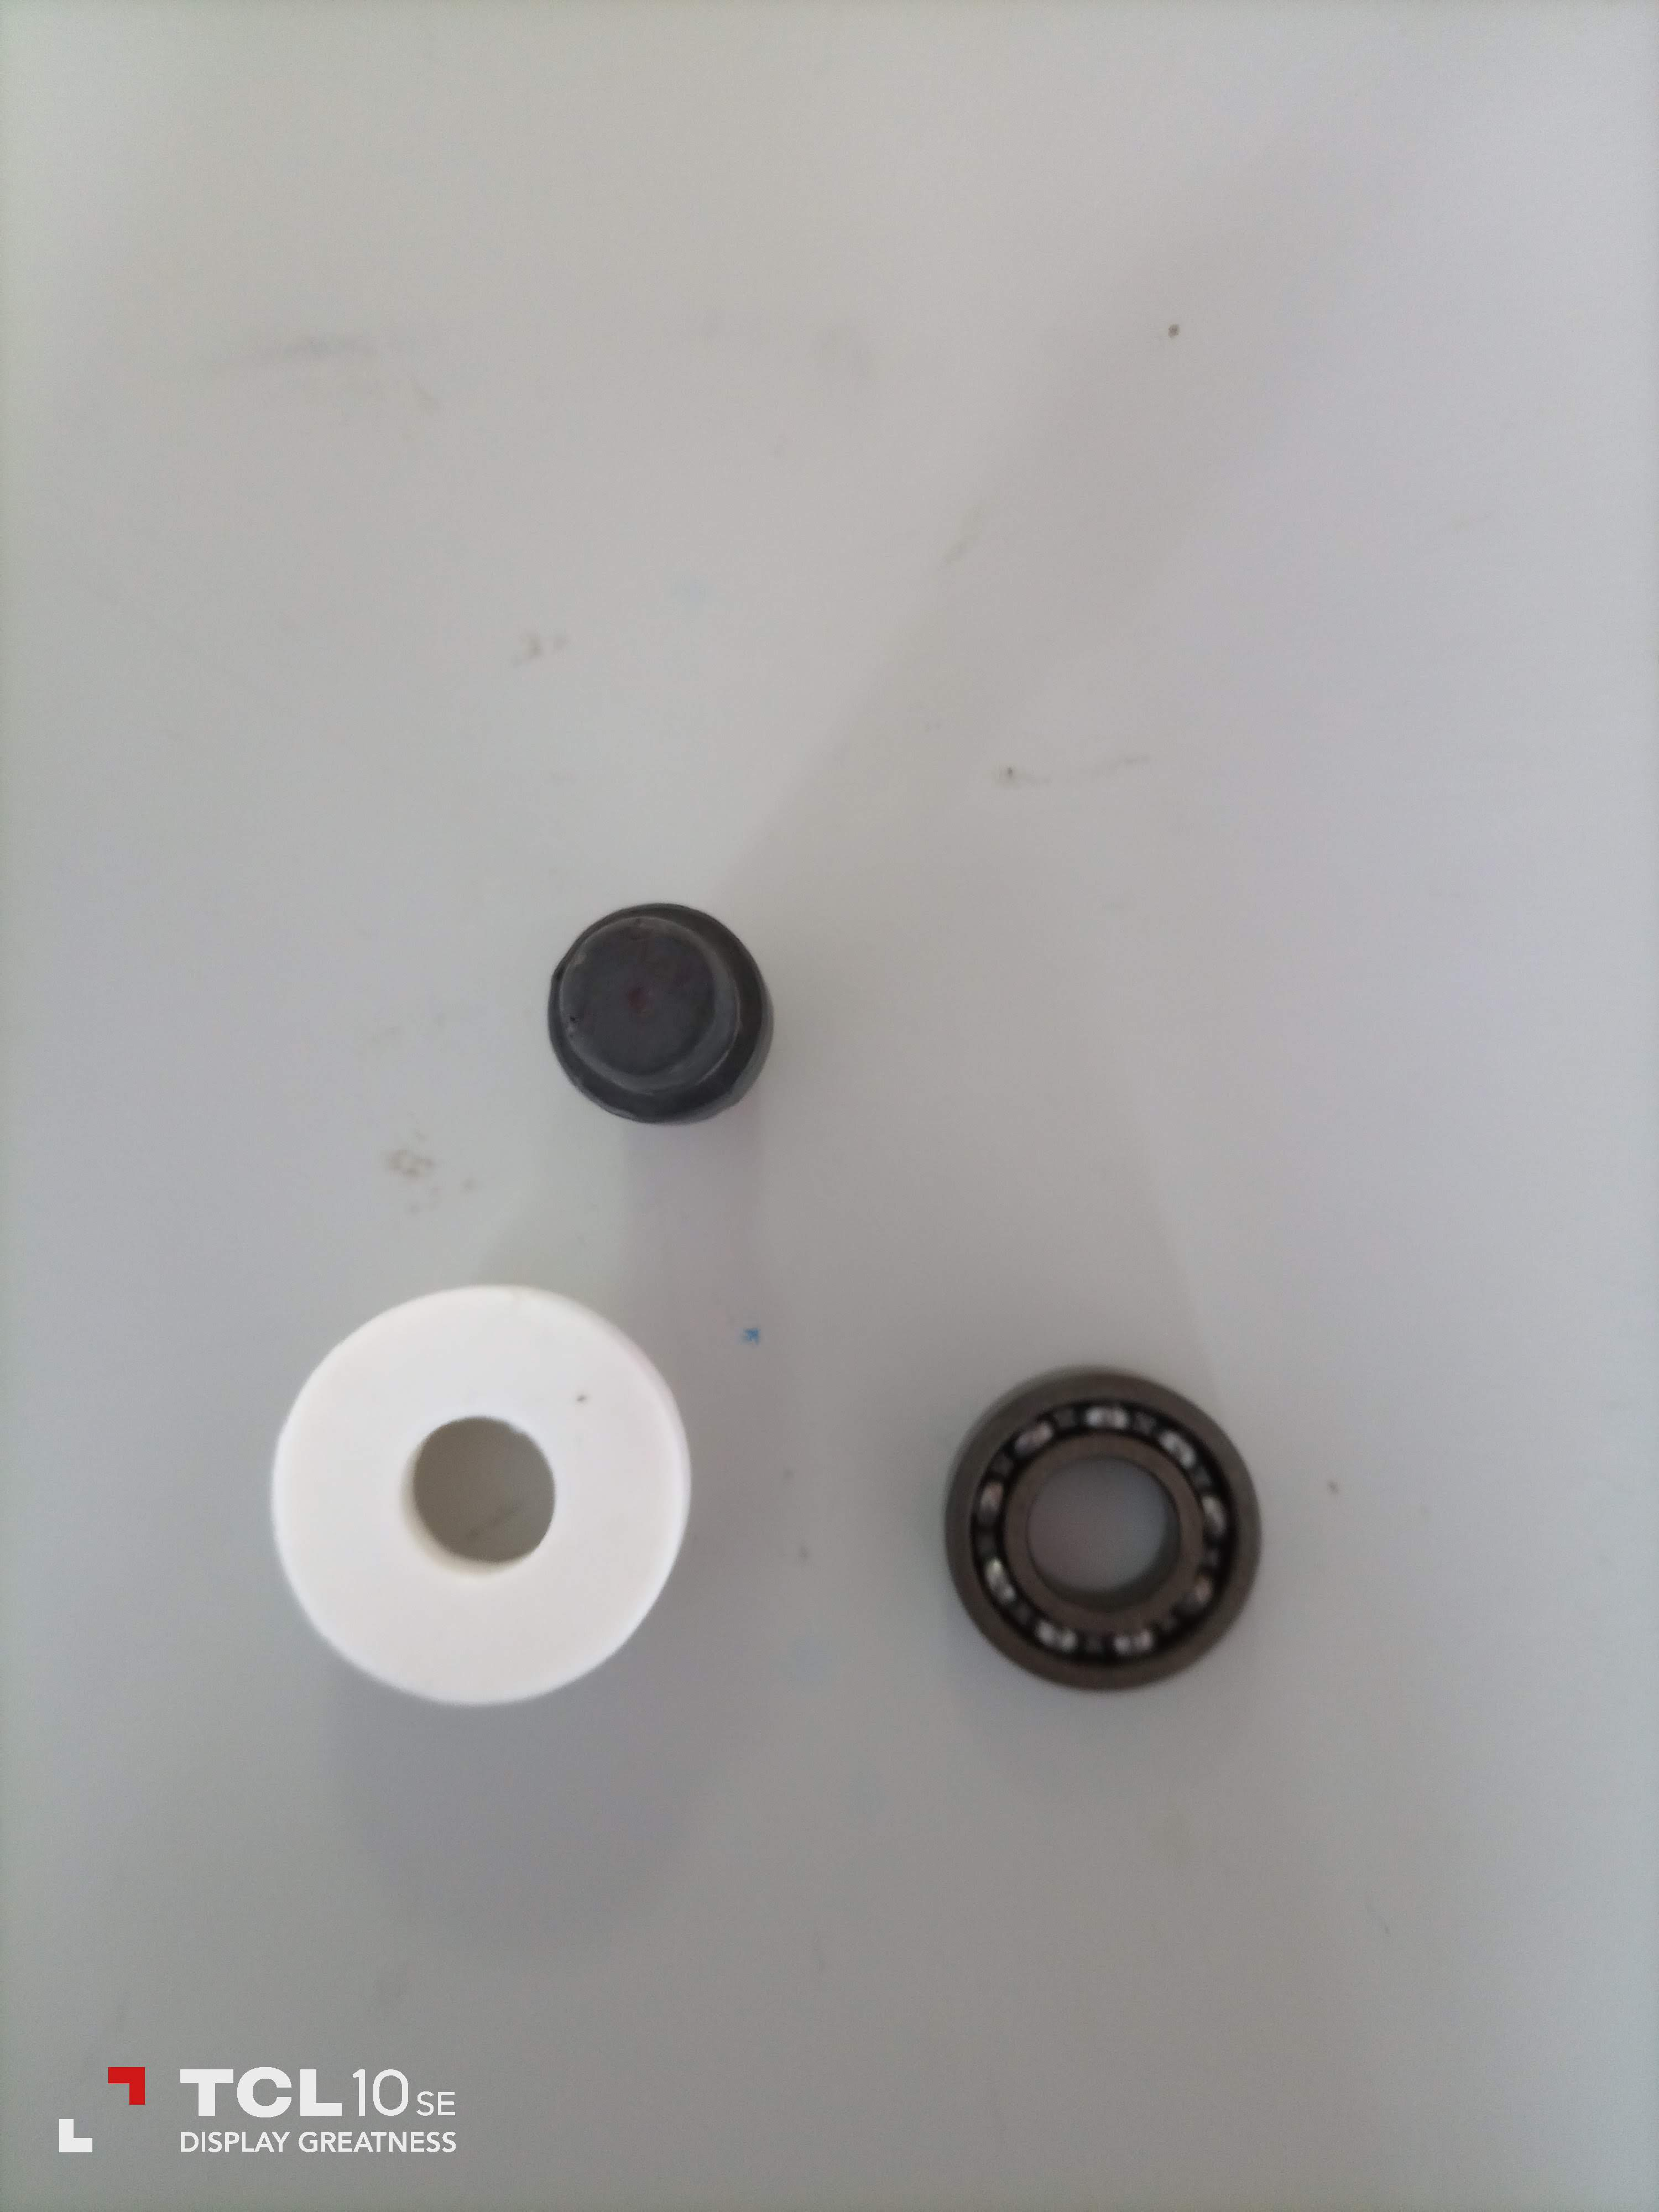Ardatza: (545, 885, 793, 1136)
Roda: (932, 1367, 1269, 1681)
Tapa: (265, 1264, 721, 1726)
